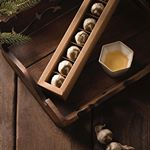cups: (98, 40, 134, 79)
